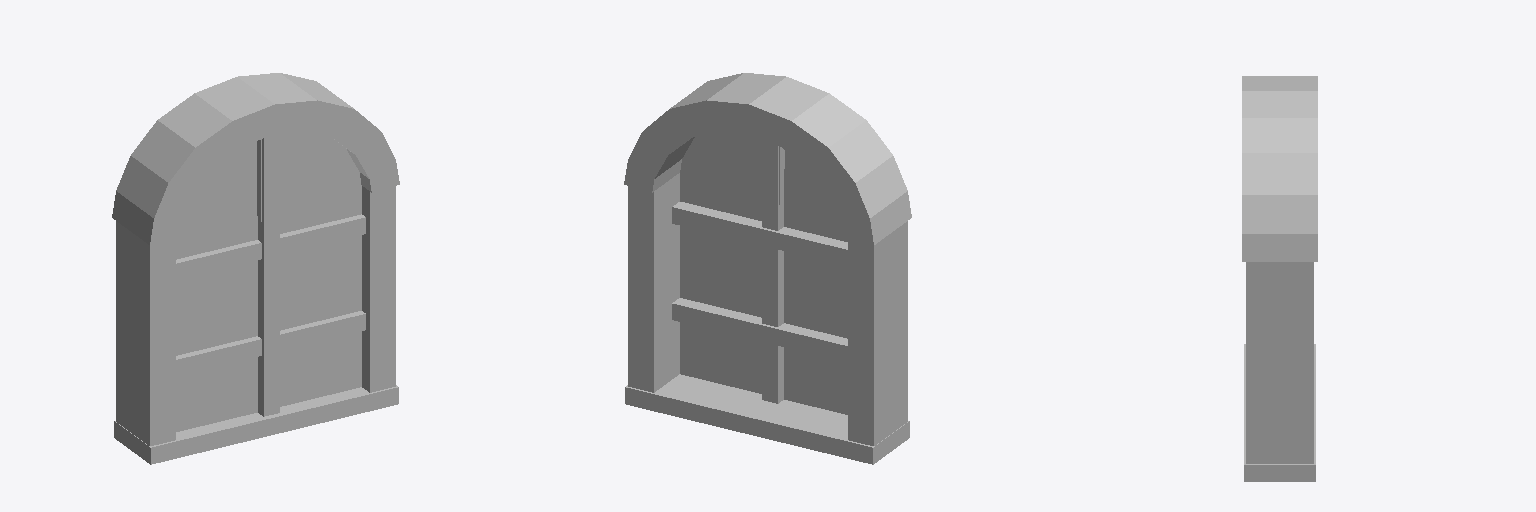
Rendered from Window_Wide_Round3.obj.
3 views of the same model, side by side, from view 1: azimuth 30°, elevation 25°; view 2: azimuth 150°, elevation 25°; view 3: azimuth 270°, elevation 25° (orthographic).
Visible parts, largest first — view 1: Window_Wide_Round3; view 2: Window_Wide_Round3; view 3: Window_Wide_Round3.
Part boxes in pixels (x1,y1,x2,y2): Window_Wide_Round3: (112,73,399,464); Window_Wide_Round3: (624,73,911,464); Window_Wide_Round3: (1242,76,1317,481).
Size of the model in its own units: 1.36 by 1.73 by 0.3591.